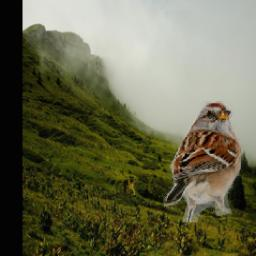Sparrow: (164, 102, 243, 223)
